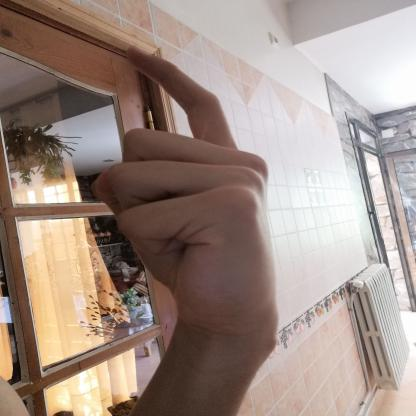RAA: (78, 40, 296, 350)
